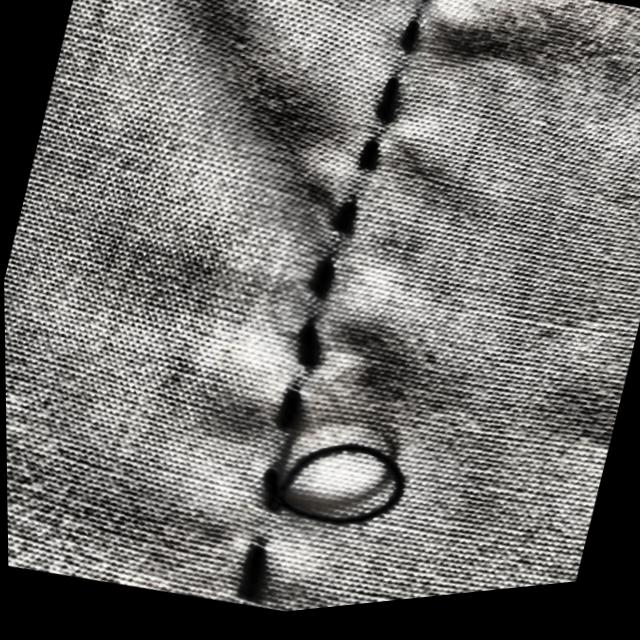Stitch: (210, 386, 463, 593)
